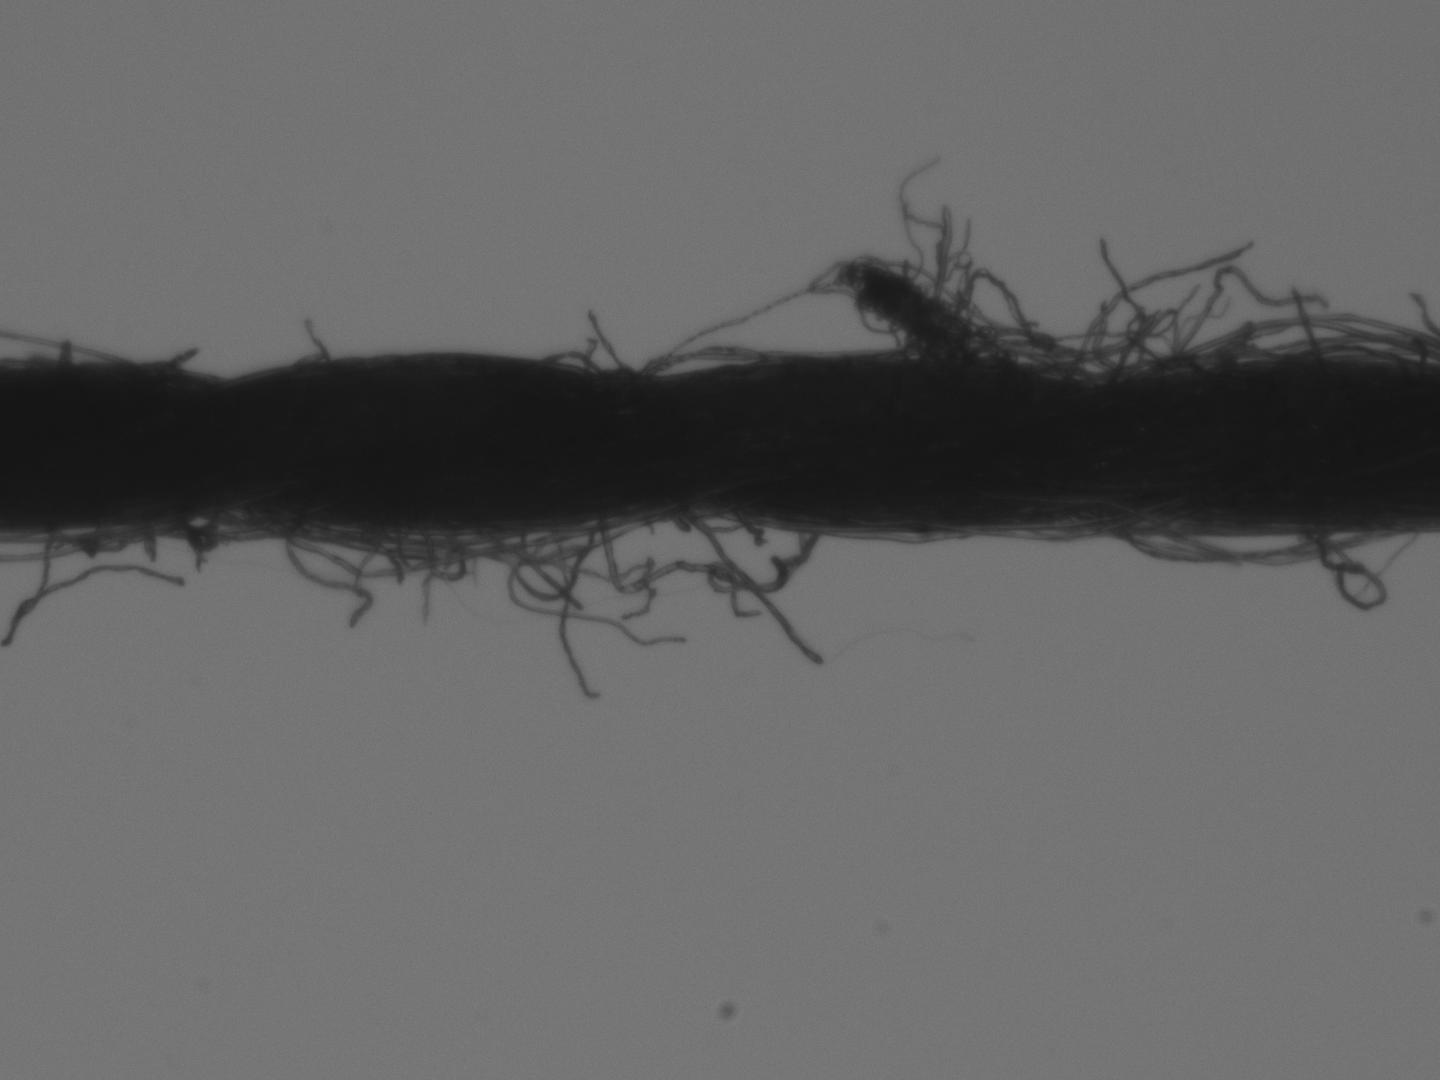loop_fiber: (638, 253, 1025, 377), (954, 271, 1157, 378), (327, 521, 599, 600), (601, 511, 816, 596), (1169, 315, 1431, 369), (1154, 525, 1381, 560), (1113, 526, 1327, 559), (169, 504, 299, 554), (50, 518, 166, 557), (1117, 312, 1181, 376), (652, 347, 785, 377), (1286, 344, 1384, 364), (541, 348, 598, 365)
protruding_fiber: (671, 507, 824, 672), (278, 531, 371, 631), (561, 523, 604, 704), (1287, 290, 1328, 363), (590, 313, 621, 370), (305, 321, 322, 362)
